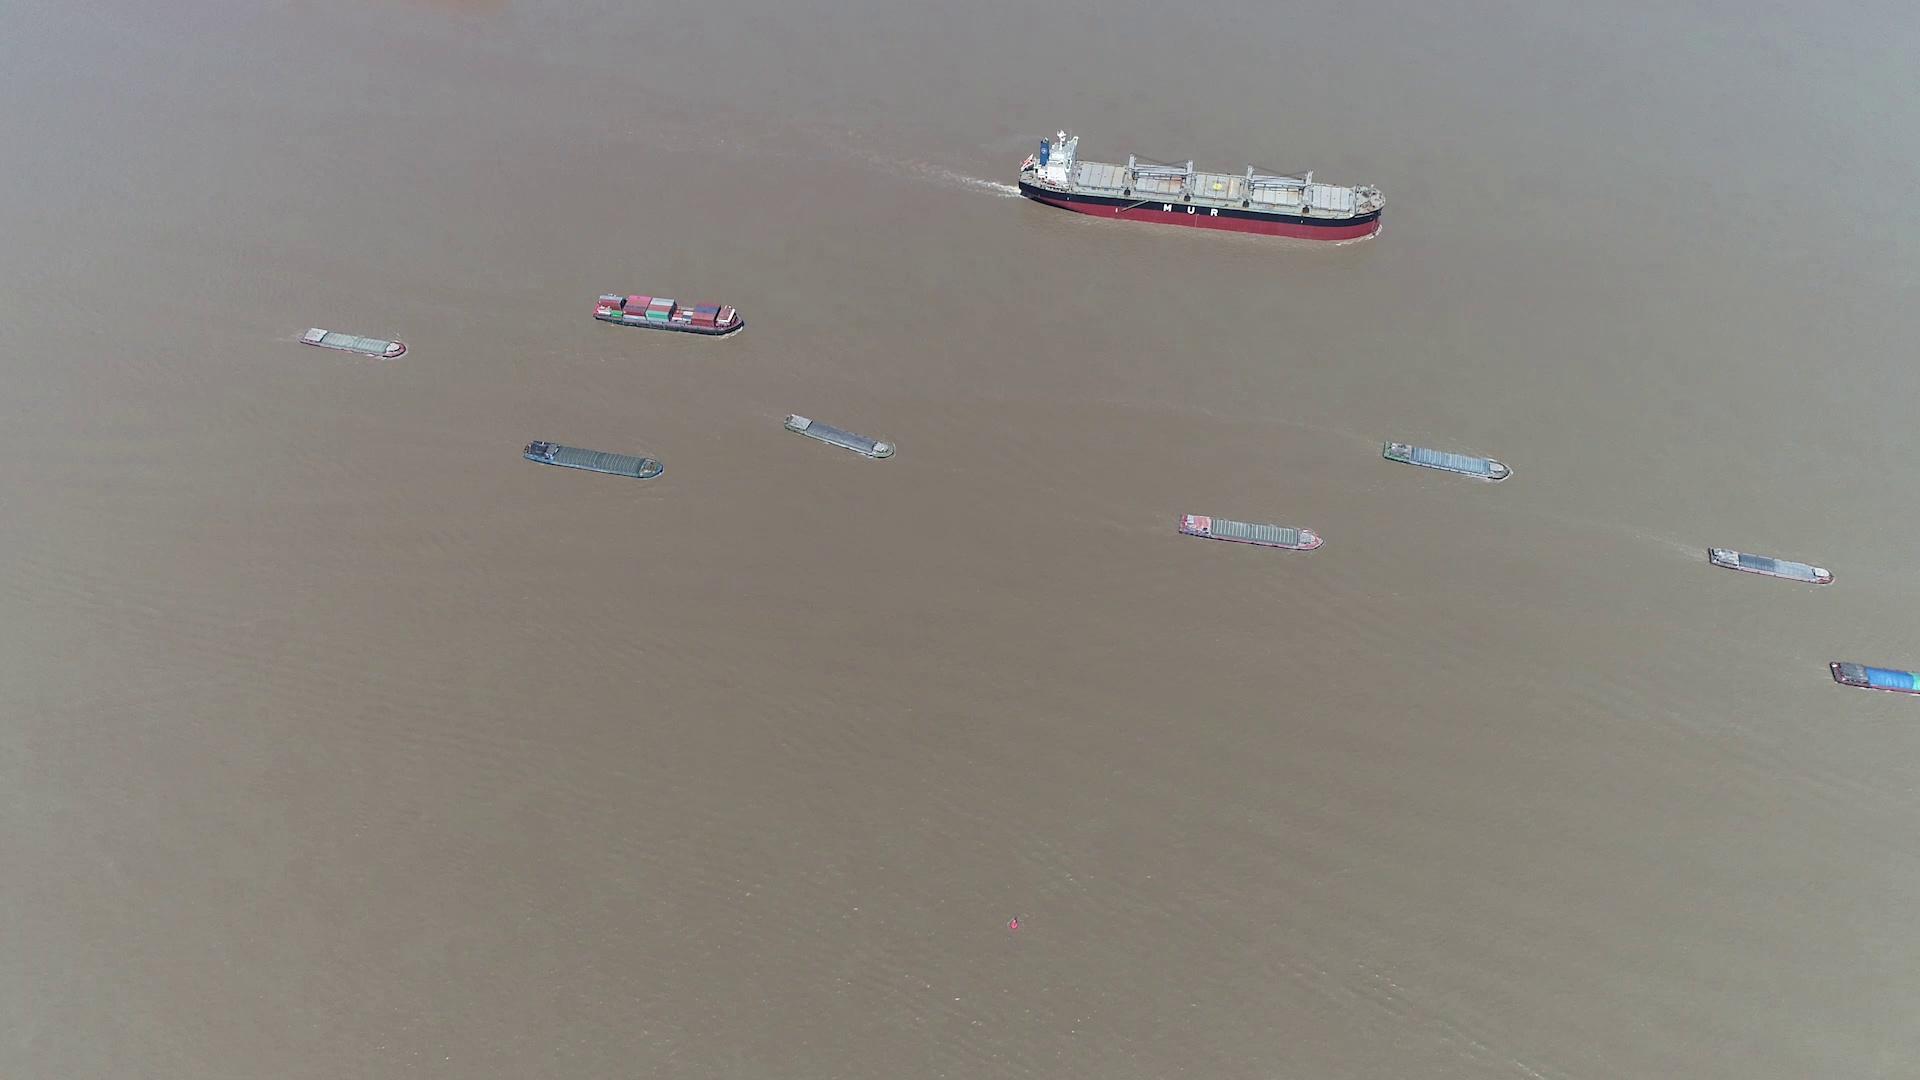ship: (1021, 138, 1383, 240), (593, 293, 745, 338), (1383, 440, 1513, 484), (524, 440, 661, 481), (1179, 514, 1325, 553), (785, 414, 895, 462), (1705, 545, 1834, 584), (299, 326, 406, 360), (1832, 661, 1919, 696)
